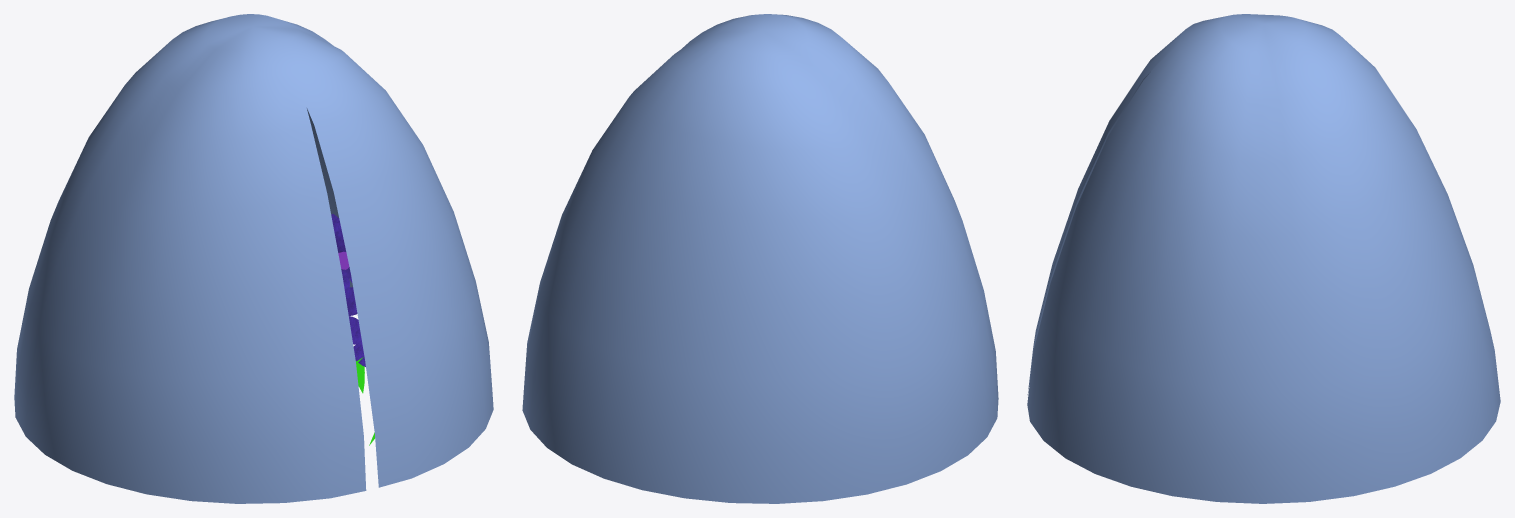
File: chill_ingredient.fbx
3 views of the same model, side by side, from view 1: azimuth 30°, elevation 25°; view 2: azimuth 150°, elevation 25°; view 3: azimuth 270°, elevation 25° (orthographic).
Visible parts, largest first — view 1: Circle.002, Circle.003; view 2: Circle.002; view 3: Circle.002.
Part boxes in pixels (left/top/right/bottom): Circle.002: left=14, top=14, right=493, bottom=503; Circle.003: left=331, top=214, right=365, bottom=366; Circle.002: left=522, top=14, right=998, bottom=503; Circle.002: left=1027, top=14, right=1500, bottom=503.
Bounding box in the file's own units: 175 × 153 × 172.
Materials: 3 (1 with a texture image).
